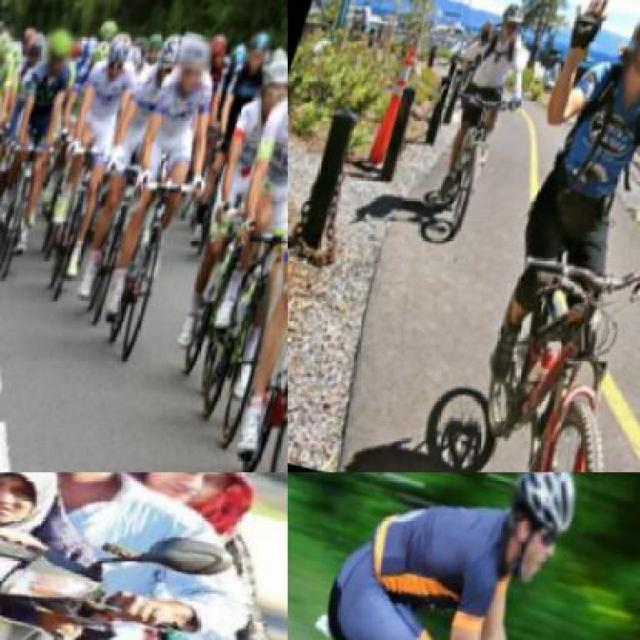With Helmet: (480, 472, 595, 611), (166, 34, 220, 112), (34, 18, 83, 88), (95, 26, 139, 89), (249, 52, 286, 126), (488, 0, 537, 54), (615, 0, 638, 112), (152, 32, 188, 92), (239, 32, 276, 90), (0, 20, 23, 89), (20, 33, 49, 76)
Without Helmet: (118, 472, 271, 543), (0, 472, 157, 512)
